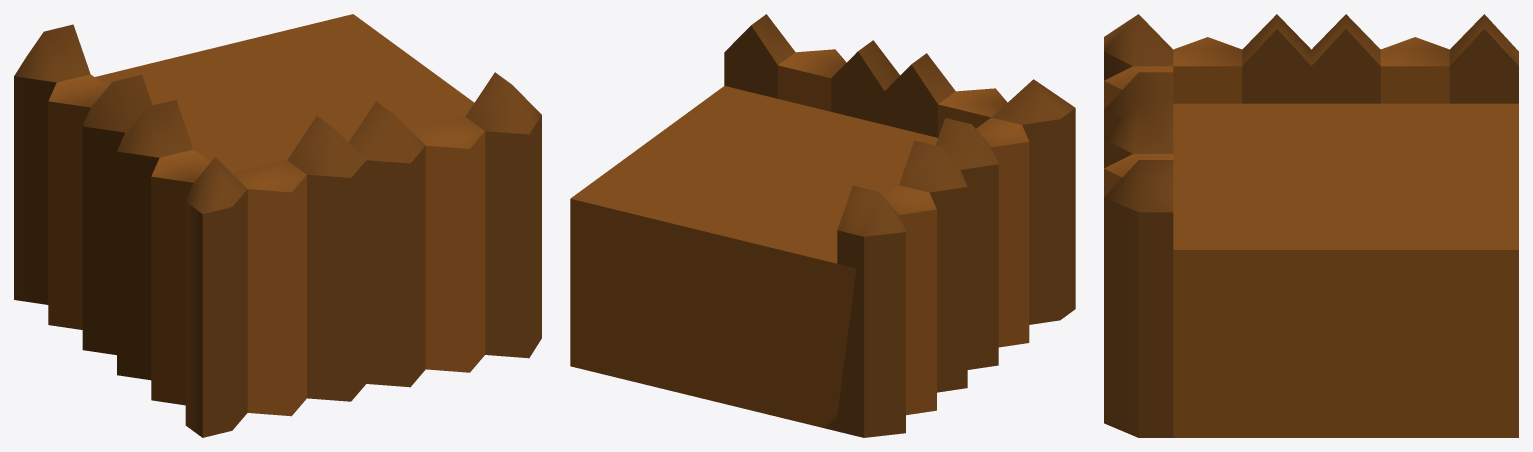
Rendered from 1x1x5_corner_wood.fbx.
The picture shows the model from 3 angles, left to right: view 1: azimuth 30°, elevation 25°; view 2: azimuth 150°, elevation 25°; view 3: azimuth 270°, elevation 25°; orthographic projection. The views are drawn at different scales.
Visible parts, largest first — view 1: polySurface1; view 2: polySurface1; view 3: polySurface1.
Part boxes in pixels (x1,y1,x2,y2): polySurface1: (14,14,541,437); polySurface1: (570,14,1075,437); polySurface1: (1104,14,1518,437).
Size of the model in its own units: 100 by 70 by 100.
Materials: 1 (1 with a texture image).
